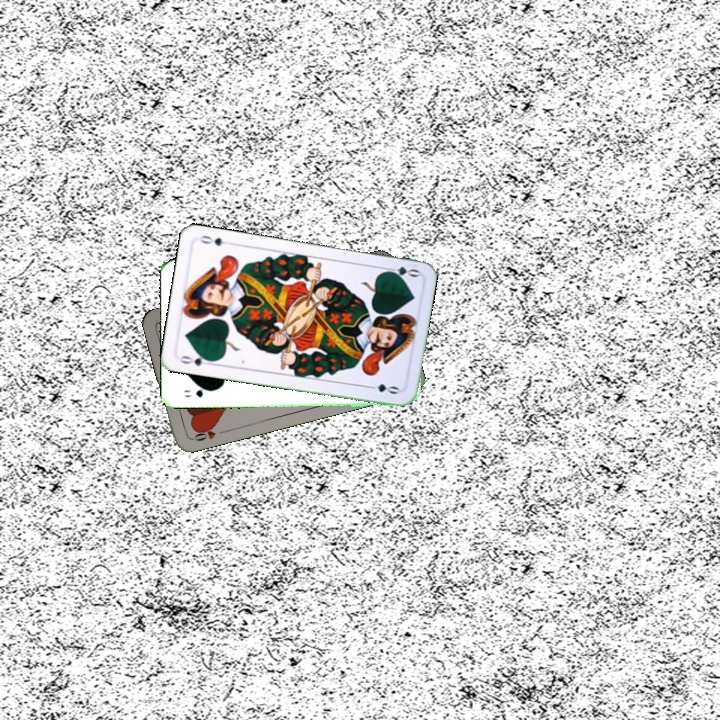GO: (380, 262, 421, 281), (176, 350, 216, 369), (179, 383, 216, 400)
HO: (187, 421, 227, 444)
